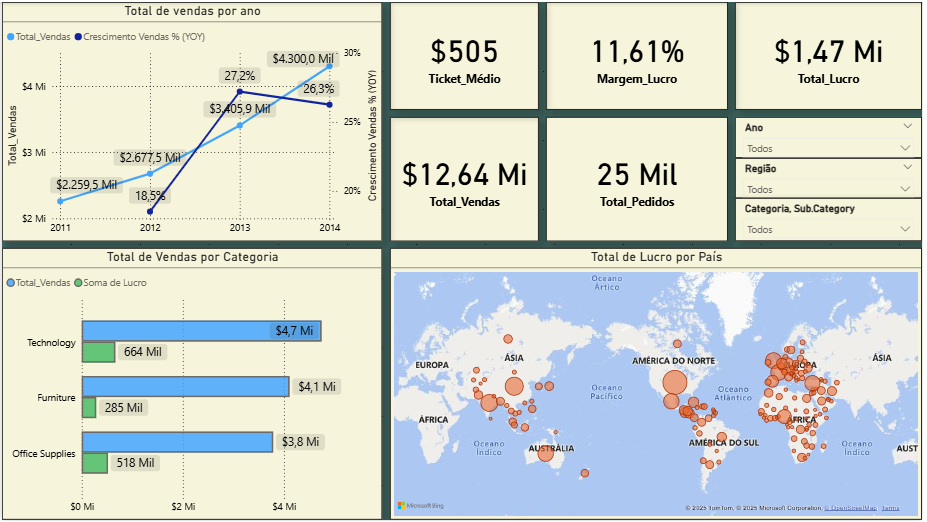

The dashboard page shown, as its layout file describes it:
{"tool":"powerbi","page":{"name":"Página 1","canvas":[1280,720],"ordinal":0},"visuals":[{"type":"card","fields":{"Values":["Medidas Rápidas.Total_Vendas"]},"box":[539.8,160,207.3,172.5],"z":0},{"type":"card","fields":{"Values":["Medidas Rápidas.Total_Lucro"]},"box":[1019.8,0,260.2,150.3],"z":1000},{"type":"card","fields":{"Values":["Medidas Rápidas.Margem_Lucro"]},"box":[756.9,0,253.2,150.3],"z":2000},{"type":"card","fields":{"Values":["Medidas Rápidas.Total_Pedidos"]},"box":[756.9,160,253.2,172.5],"z":3000},{"type":"slicer","fields":{"Values":["superstore.Região"]},"box":[1019.8,217,260.2,55.7],"z":4000},{"type":"slicer","fields":{"Values":["superstore.Categoria","superstore.Sub.Category"]},"box":[1019.8,272.7,260.2,59.8],"z":5000},{"type":"slicer","fields":{"Values":["dCalendario.Ano"]},"box":[1019.8,160,260.2,57],"z":6000},{"type":"card","fields":{"Values":["Medidas Rápidas.Ticket_Médio"]},"box":[539.8,0,207.3,150.3],"z":7000},{"type":"lineChart","title":"Total de vendas por ano","fields":{"Y":["Medidas Rápidas.Total_Vendas"],"Y2":["dCalendario.Crescimento Vendas % (YOY)"],"Category":["dCalendario.Ano","dCalendario.MesAno"]},"box":[0,0,528.7,332.5],"z":8000},{"type":"clusteredBarChart","title":"Total de Vendas por Categoria","fields":{"Category":["superstore.Categoria","superstore.Sub.Category"],"Y":["Medidas Rápidas.Total_Vendas","Divide(Sum(superstore.Lucro), ScopedEval(Sum(superstore.Lucro), []))"]},"box":[0,342.3,528.7,378.4],"z":9000},{"type":"map","title":"Total de Lucro por País","fields":{"Category":["superstore.País"],"Size":["Medidas Rápidas.Total_Lucro"]},"box":[539.8,342.3,740.2,378.4],"z":10000}]}

Visuals, with their boxes in screenshot pixels (x1, y1, x2, y2), scaled from the page's 1280x720 canvas onto the 927x522 screenshot:
card - Medidas Rápidas.Total_Vendas: 391 116 541 241
card - Medidas Rápidas.Total_Lucro: 739 0 926 109
card - Medidas Rápidas.Margem_Lucro: 548 0 732 109
card - Medidas Rápidas.Total_Pedidos: 548 116 732 241
slicer - superstore.Região: 739 157 926 198
slicer - superstore.Categoria x superstore.Sub.Category: 739 198 926 241
slicer - dCalendario.Ano: 739 116 926 157
card - Medidas Rápidas.Ticket_Médio: 391 0 541 109
"Total de vendas por ano" lineChart: 0 0 383 241
"Total de Vendas por Categoria" clusteredBarChart: 0 248 383 521
"Total de Lucro por País" map: 391 248 926 521
